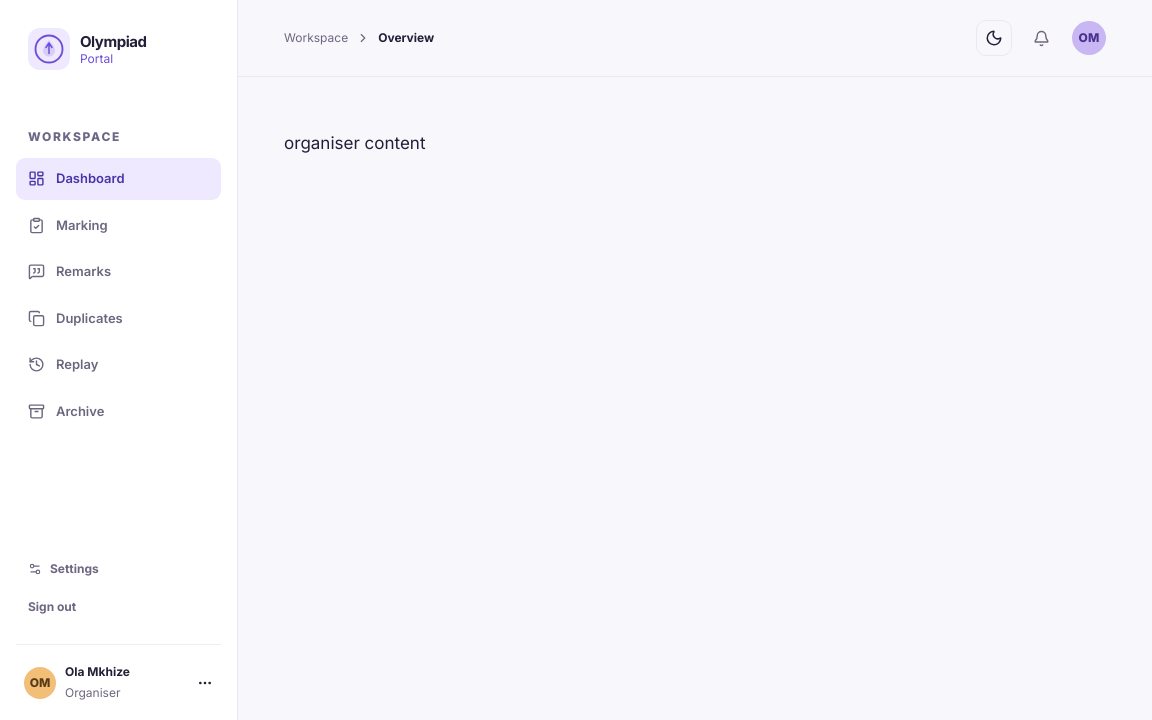
it: OrganiserShell delete account › opens the delete confirmation dialog when the button is clicked
Step 1. Click the button "Settings" → point(118, 569), box 16,550 -> 221,588
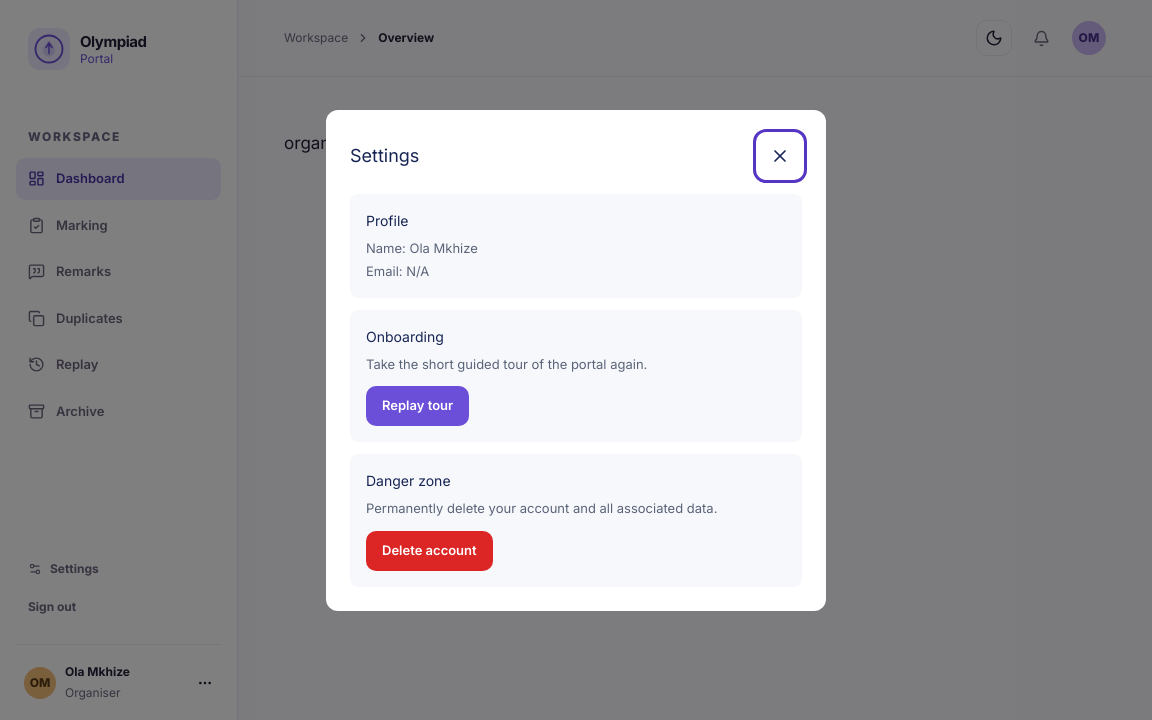
Now the dialog "Settings" is shown, box 326,110 -> 826,610
Step 2. Click the button "Delete account" → point(429, 550), box 366,530 -> 493,570
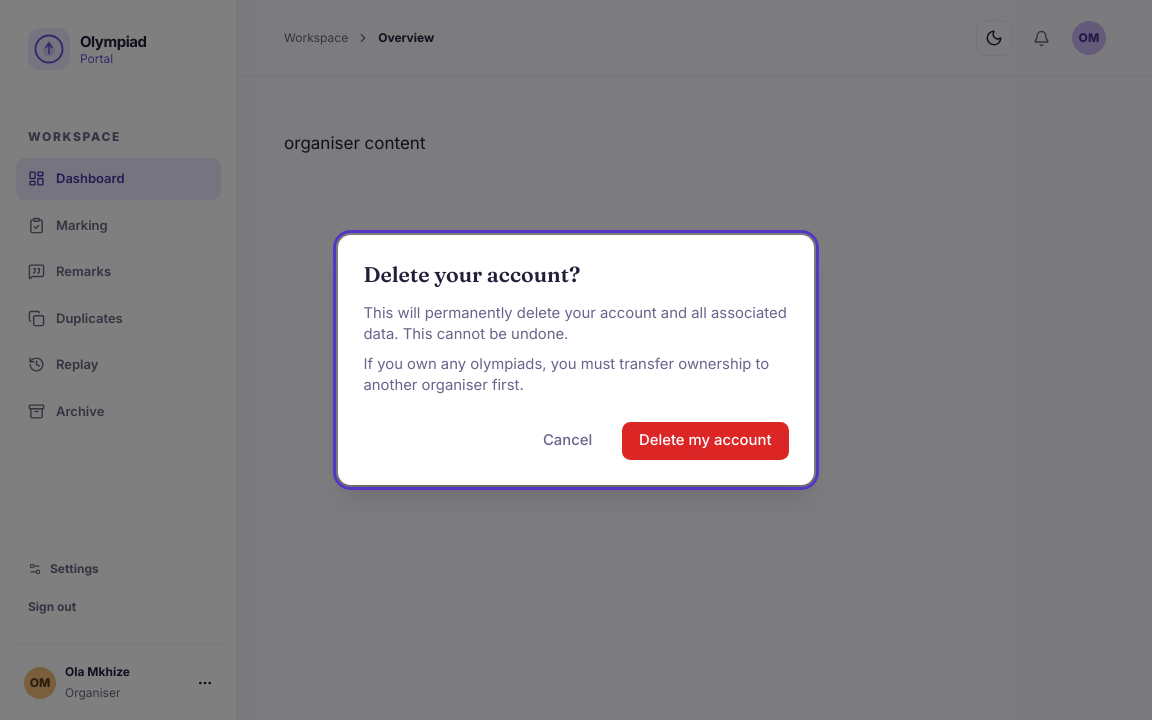
Now the heading "Delete your account?" is shown, box 364,261 -> 580,287
Now the text "transfer ownership" is shown, box 364,355 -> 769,394
